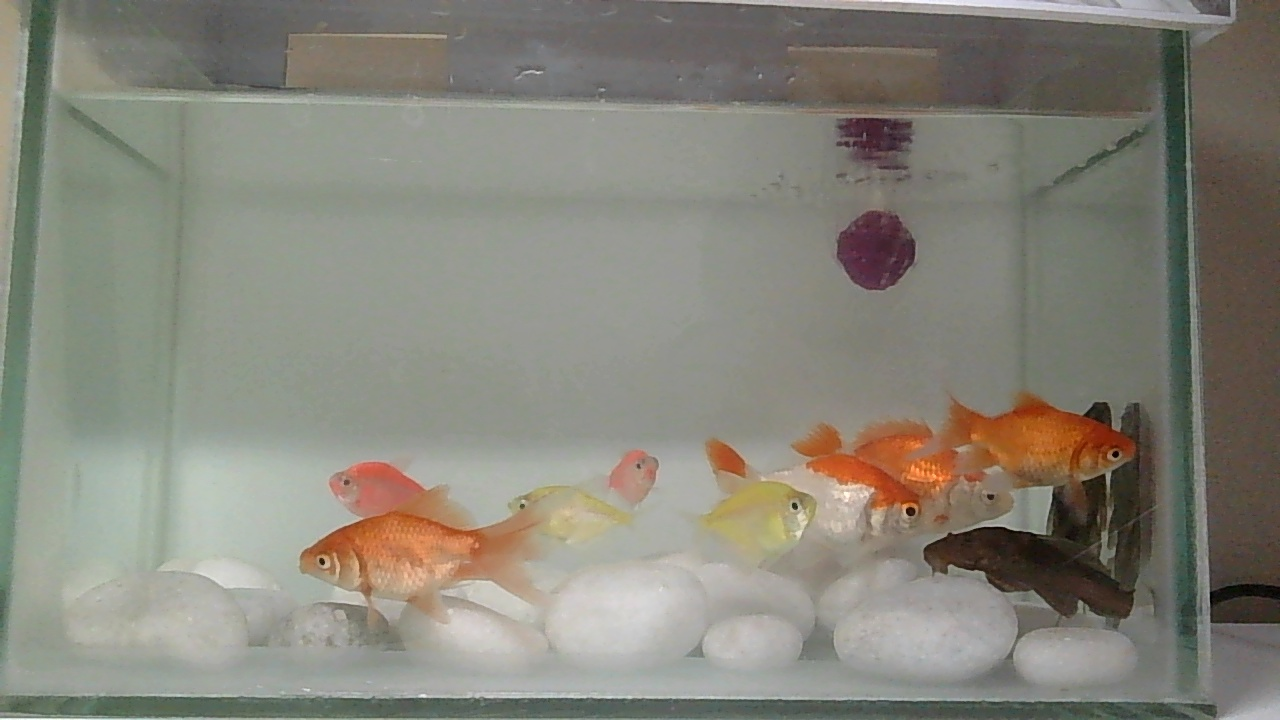fish: (297, 461, 568, 625), (928, 386, 1140, 535), (933, 518, 1133, 624), (305, 454, 554, 535), (936, 385, 1137, 483), (322, 451, 485, 531), (698, 476, 816, 569), (830, 205, 920, 294), (602, 443, 662, 524)
